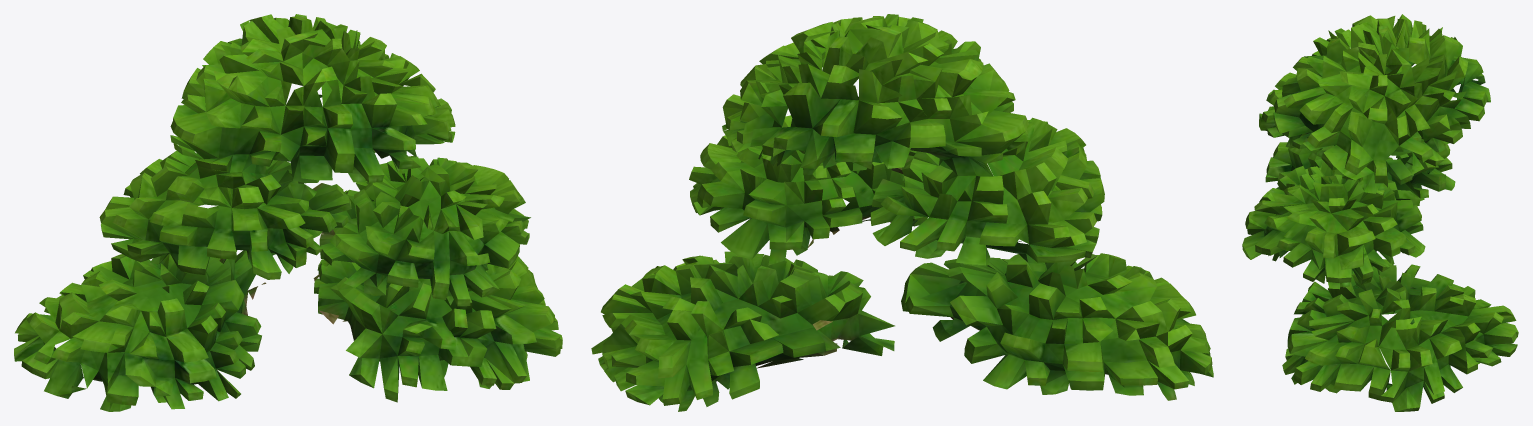
The model's file is leaf_sp.glb.
3 views of the same model, side by side, from view 1: azimuth 30°, elevation 25°; view 2: azimuth 150°, elevation 25°; view 3: azimuth 270°, elevation 25° (orthographic). The views are drawn at different scales.
Visible parts, largest first — view 1: geometry_0; view 2: geometry_0; view 3: geometry_0.
Part boxes in pixels (x1,y1,x2,y2): geometry_0: [14, 14, 562, 411]; geometry_0: [591, 14, 1213, 411]; geometry_0: [1242, 14, 1518, 411].
Size of the model in its own units: 0.3977 by 0.256 by 0.2185.
1 material, 1 textured.
